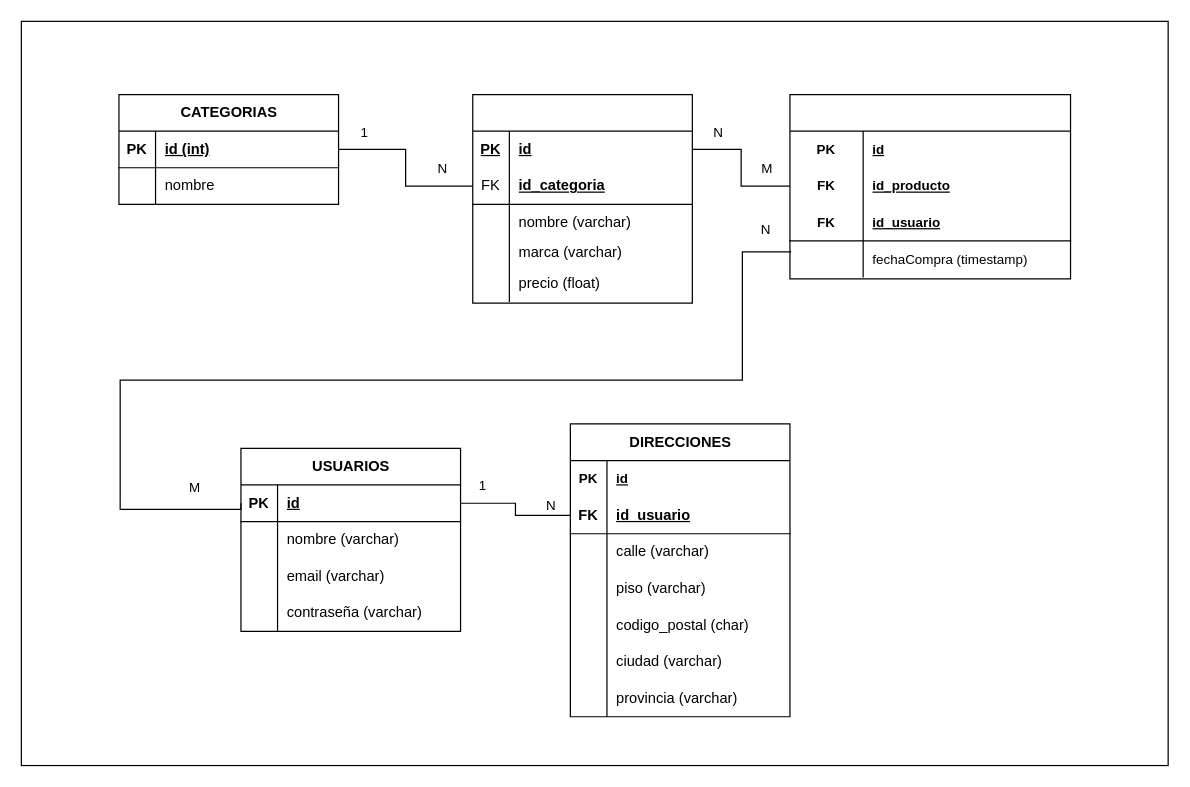
This 1190x787 diagram has some shape labels left out. The shapes that lost their labels are listed below. From the top down, each one's box as (x1, y1, x2, y2) in pixels, then its label:
(472, 93, 692, 303): PRODUCTOS
(789, 93, 1071, 279): COMPRAS
